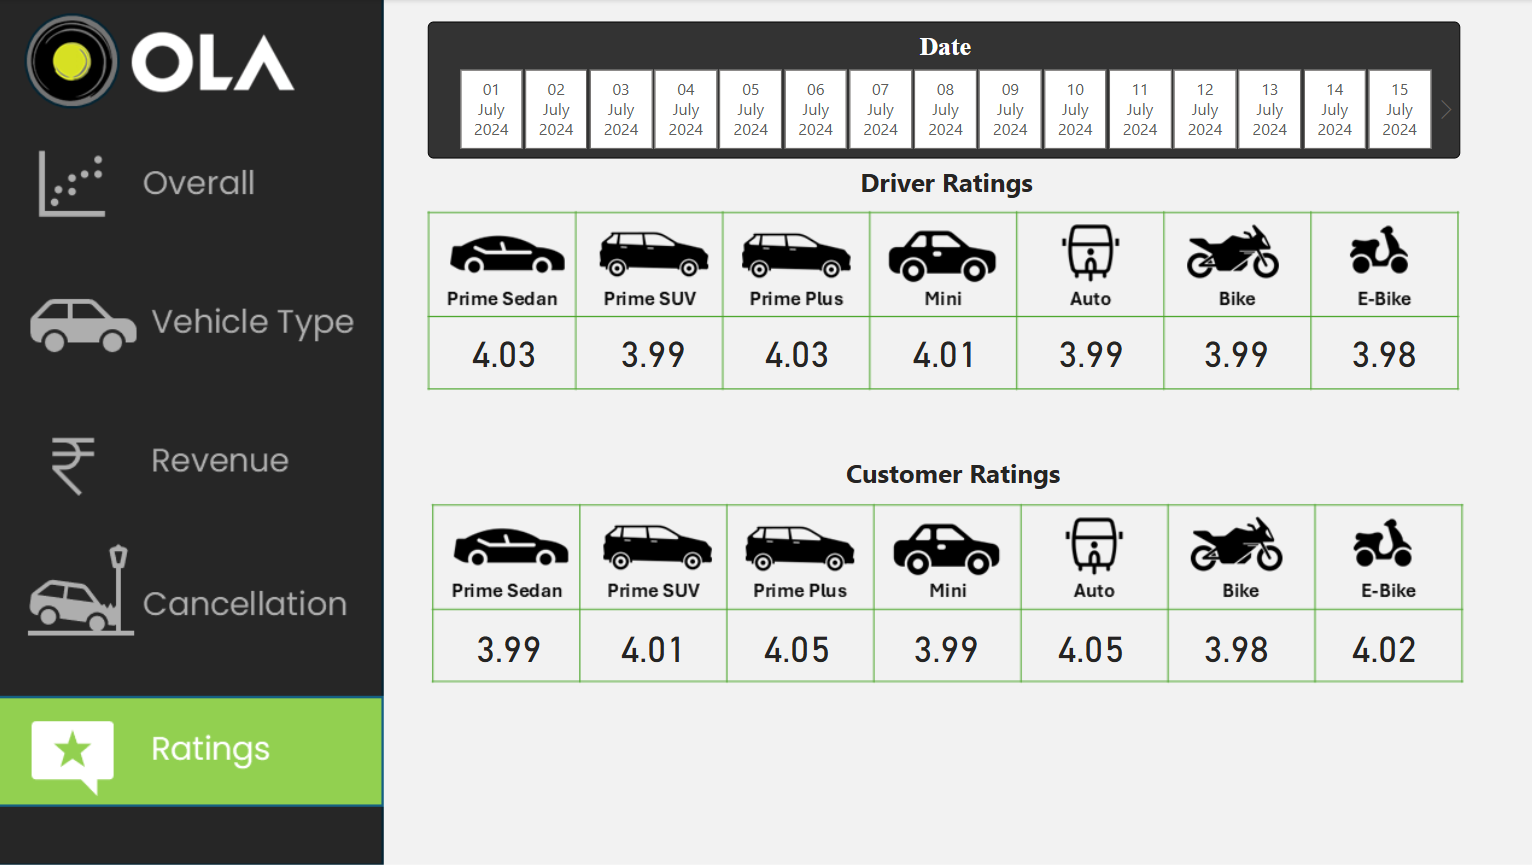

What the dashboard file says about the page in this screenshot:
{"tool":"powerbi","page":{"name":"Ratings","canvas":[1280,720],"ordinal":4},"visuals":[{"type":"actionButton","box":[0,223.4,323.3,90.7],"z":0},{"type":"actionButton","box":[0,341.4,323.3,90.7],"z":1000},{"type":"actionButton","box":[0,445.7,323.3,90.7],"z":2000},{"type":"actionButton","box":[0,106.6,323.3,90.7],"z":3000},{"type":"card","fields":{"Values":["Avg(July.Driver_Ratings)"]},"box":[363.8,270,118.8,45],"z":4000},{"type":"card","fields":{"Values":["Avg(July.Driver_Ratings)"]},"box":[856.2,270,107.5,45],"z":5000},{"type":"card","fields":{"Values":["Avg(July.Driver_Ratings)"]},"box":[975,270,110,45],"z":6000},{"type":"card","fields":{"Values":["Avg(July.Driver_Ratings)"]},"box":[1093.8,270,118.8,45],"z":7000},{"type":"card","fields":{"Values":["Avg(July.Driver_Ratings)"]},"box":[492.5,270,108.8,45],"z":8000},{"type":"card","fields":{"Values":["Avg(July.Driver_Ratings)"]},"box":[610,270,111.2,45],"z":9000},{"type":"card","fields":{"Values":["Avg(July.Driver_Ratings)"]},"box":[731.2,270,113.8,45],"z":10000},{"type":"card","fields":{"Values":["Avg(July.Customer_Rating)"]},"box":[372.5,515,110,45],"z":11000},{"type":"card","fields":{"Values":["Avg(July.Customer_Rating)"]},"box":[492.5,515,108.8,45],"z":12000},{"type":"card","fields":{"Values":["Avg(July.Customer_Rating)"]},"box":[610,515,111.2,45],"z":13000},{"type":"card","fields":{"Values":["Avg(July.Customer_Rating)"]},"box":[732.5,515,113.8,45],"z":14000},{"type":"card","fields":{"Values":["Avg(July.Customer_Rating)"]},"box":[856.2,515,107.5,45],"z":15000},{"type":"card","fields":{"Values":["Avg(July.Customer_Rating)"]},"box":[975,515,110,45],"z":16000},{"type":"card","fields":{"Values":["Avg(July.Customer_Rating)"]},"box":[1093.8,515,118.8,45],"z":17000},{"type":"textbox","box":[707.5,131.2,163.8,42.5],"z":18000},{"type":"textbox","box":[693,373.3,203.5,44.2],"z":19000},{"type":"slicer","title":"Date","fields":{"Values":["July.Date"]},"box":[359.5,18.1,856.3,113.4],"z":20000}]}

Visuals, with their boxes on the page's 1280x720 design canvas (x1, y1, x2, y2). These are canvas units, not pixel positions in the 1532x865 screenshot, which may show the page scaled, cropped or inside an application window:
actionButton: bbox=(0, 223, 323, 314)
actionButton: bbox=(0, 341, 323, 432)
actionButton: bbox=(0, 446, 323, 536)
actionButton: bbox=(0, 107, 323, 197)
card - Avg(July.Driver_Ratings): bbox=(364, 270, 483, 315)
card - Avg(July.Driver_Ratings): bbox=(856, 270, 964, 315)
card - Avg(July.Driver_Ratings): bbox=(975, 270, 1085, 315)
card - Avg(July.Driver_Ratings): bbox=(1094, 270, 1213, 315)
card - Avg(July.Driver_Ratings): bbox=(492, 270, 601, 315)
card - Avg(July.Driver_Ratings): bbox=(610, 270, 721, 315)
card - Avg(July.Driver_Ratings): bbox=(731, 270, 845, 315)
card - Avg(July.Customer_Rating): bbox=(372, 515, 482, 560)
card - Avg(July.Customer_Rating): bbox=(492, 515, 601, 560)
card - Avg(July.Customer_Rating): bbox=(610, 515, 721, 560)
card - Avg(July.Customer_Rating): bbox=(732, 515, 846, 560)
card - Avg(July.Customer_Rating): bbox=(856, 515, 964, 560)
card - Avg(July.Customer_Rating): bbox=(975, 515, 1085, 560)
card - Avg(July.Customer_Rating): bbox=(1094, 515, 1213, 560)
textbox: bbox=(708, 131, 871, 174)
textbox: bbox=(693, 373, 896, 418)
"Date" slicer: bbox=(360, 18, 1216, 132)
